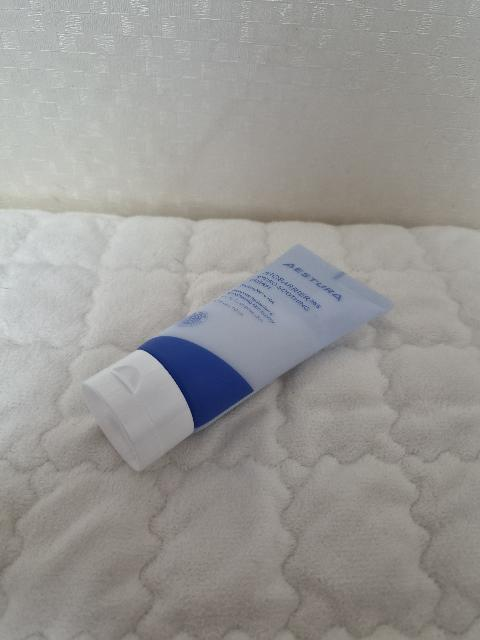handcream: (81, 244, 394, 472)
